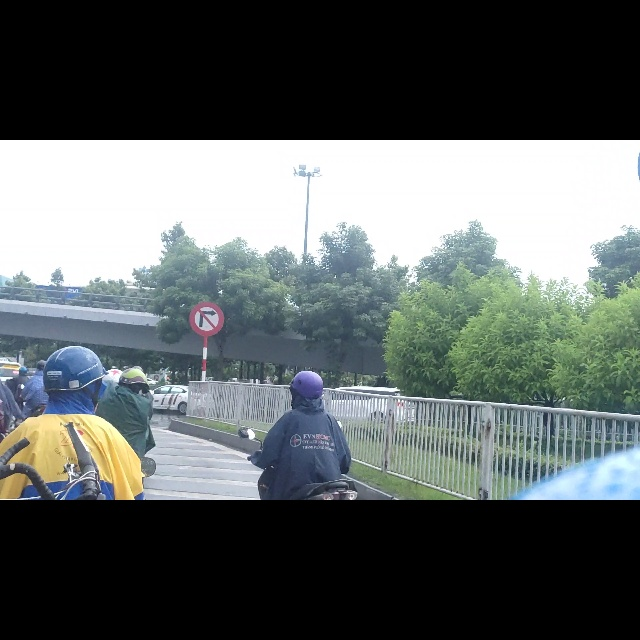bien_cam: (189, 286, 225, 349)
